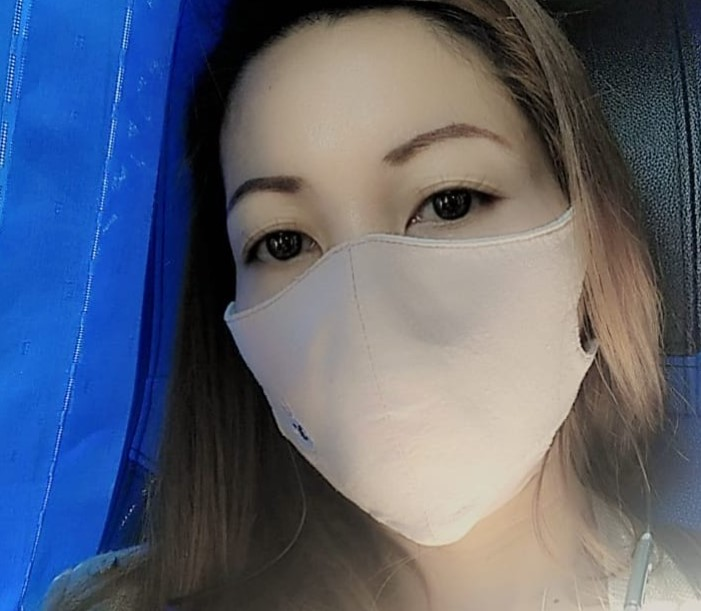face_with_mask: (210, 11, 613, 548)
